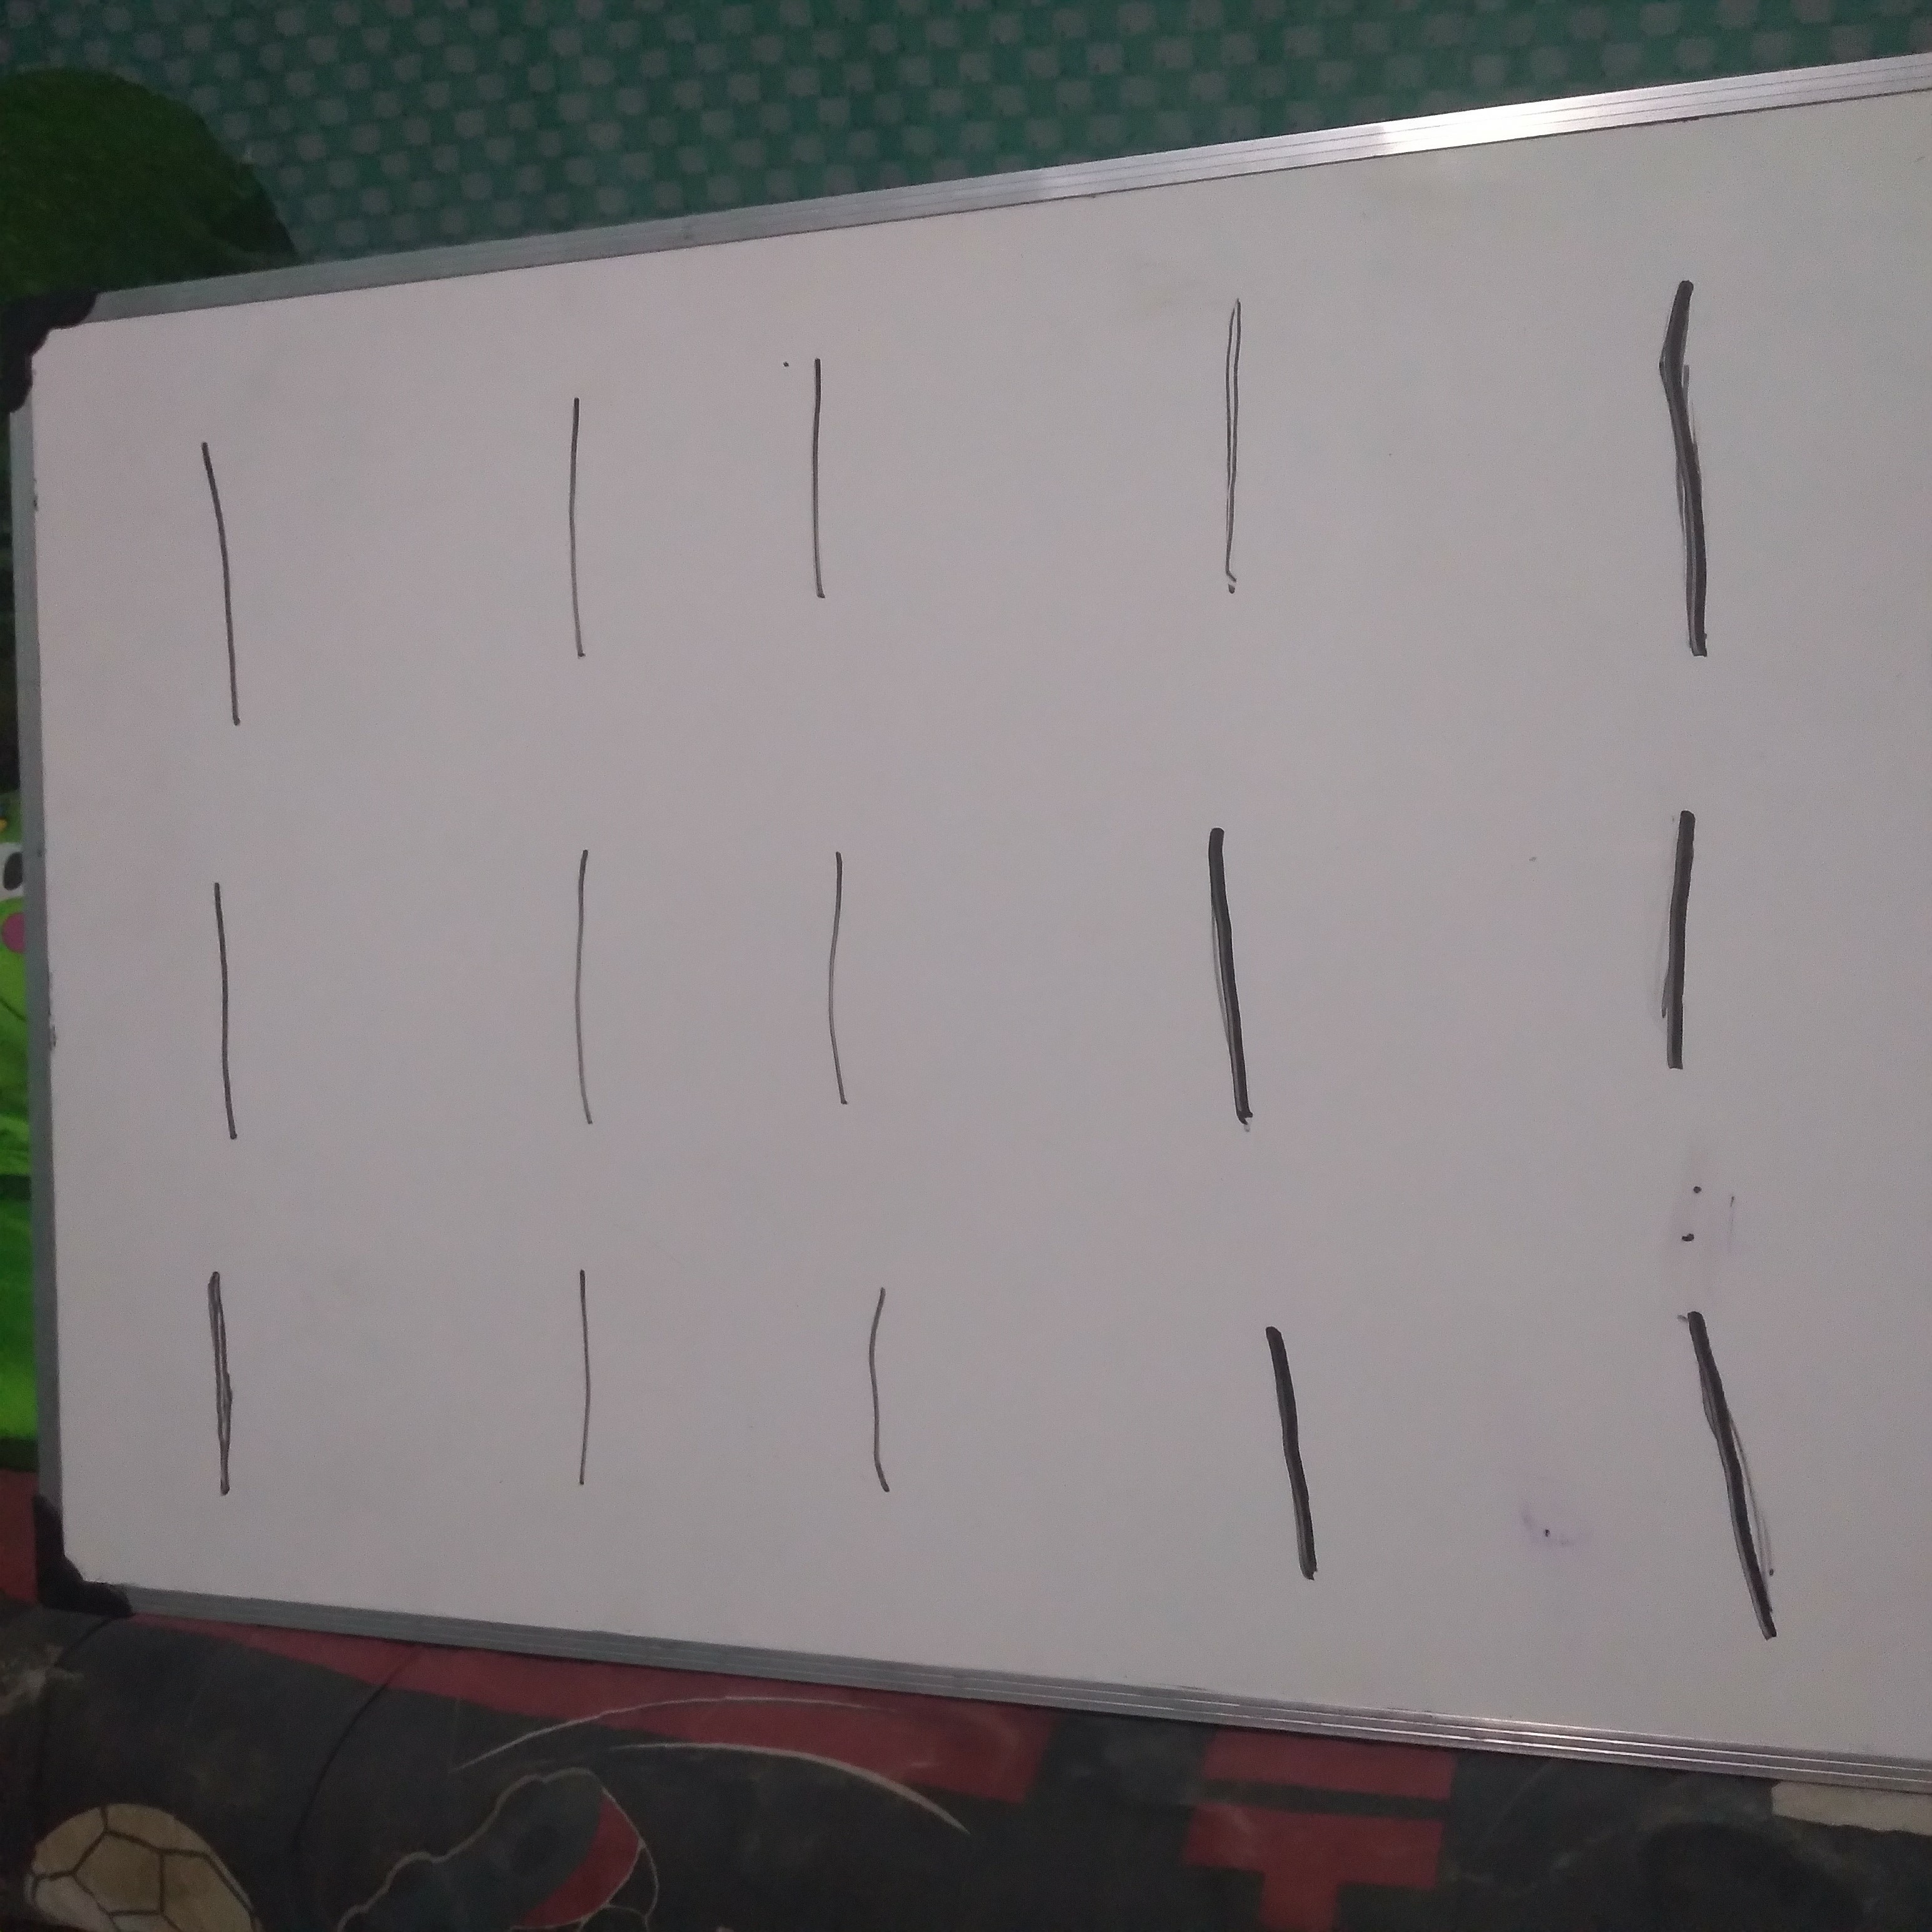num1: (1681, 1297, 1792, 1682), (1637, 285, 1749, 669), (186, 425, 270, 745), (765, 323, 849, 644), (1197, 282, 1282, 602), (181, 846, 265, 1166), (170, 1222, 254, 1542), (537, 1211, 622, 1531), (538, 834, 623, 1154), (836, 1211, 921, 1531), (1196, 822, 1281, 1142), (1249, 1281, 1334, 1602), (1632, 775, 1716, 1096), (546, 373, 631, 693), (783, 818, 868, 1139)
